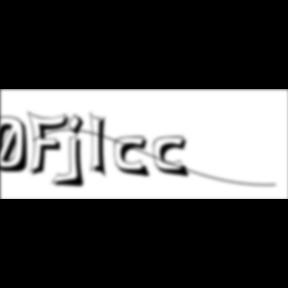0: (0, 115, 36, 174)
F: (28, 110, 76, 178)
I: (90, 110, 114, 182)
c: (115, 136, 155, 180), (154, 136, 194, 180)
j: (64, 113, 92, 191)
